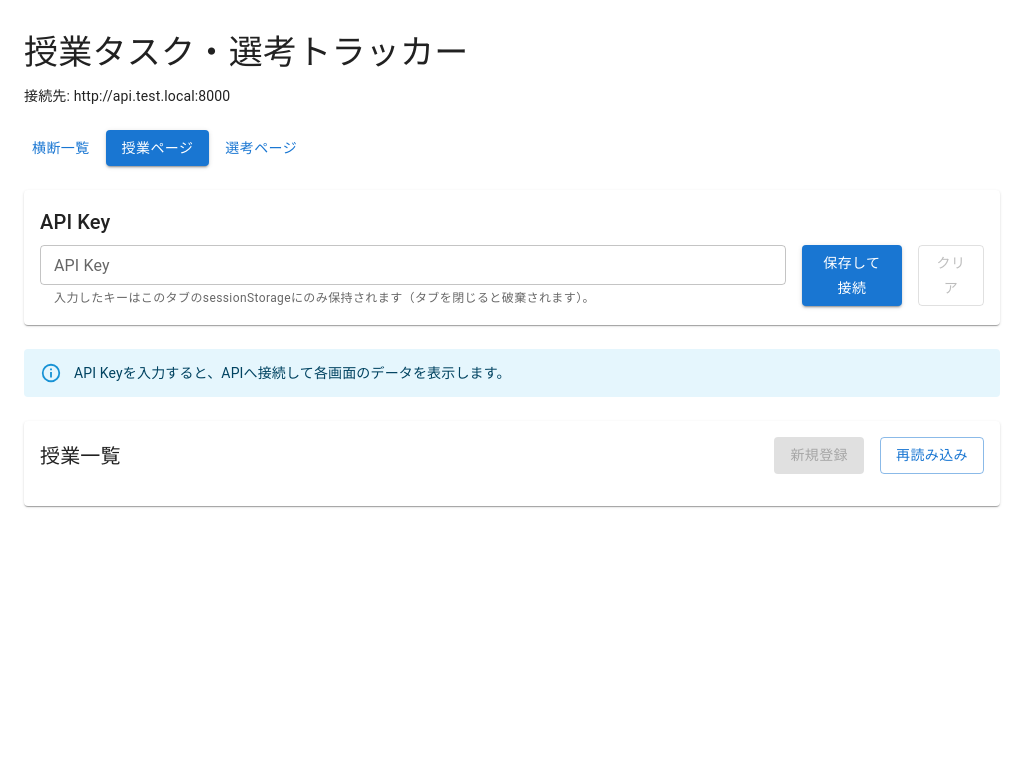
API Keyを入力しての疎通 › 入力したキーで認証付きリクエストし、取得内容を表示する
Expected: the element named "授業管理" is shown, [24,421,1000,506]
Type "valid-key" into the password field labelled "API Key" at (413, 265), box [40,245,786,285]
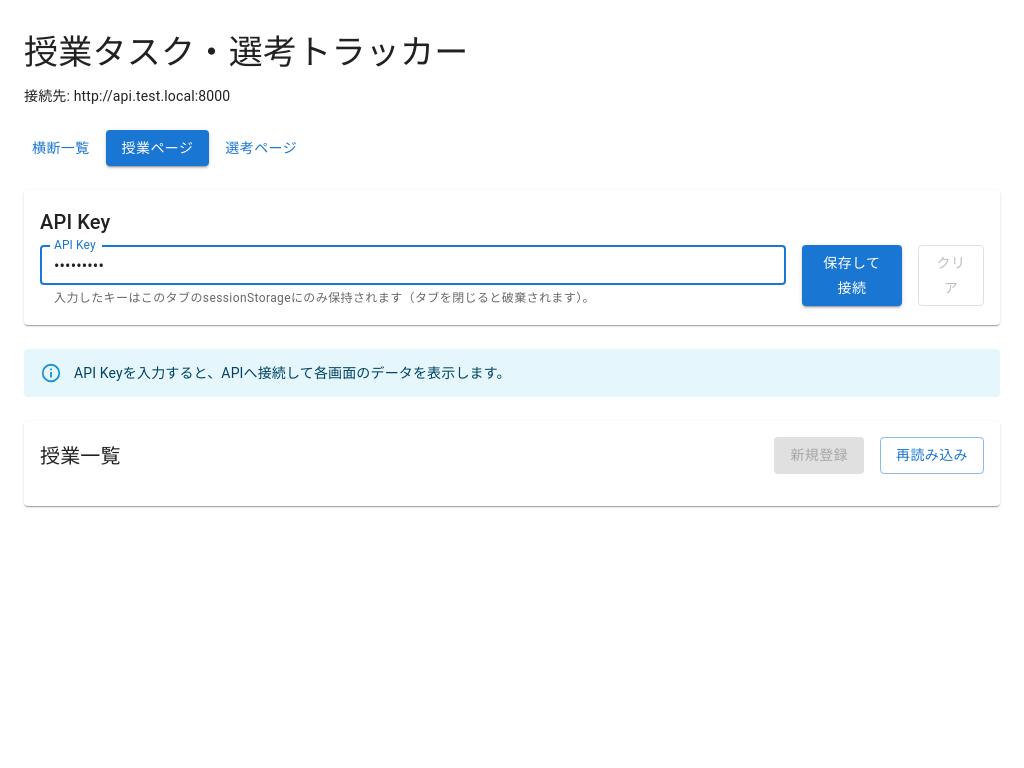
Click the button "保存して接続" at (852, 276), box [802,245,902,306]
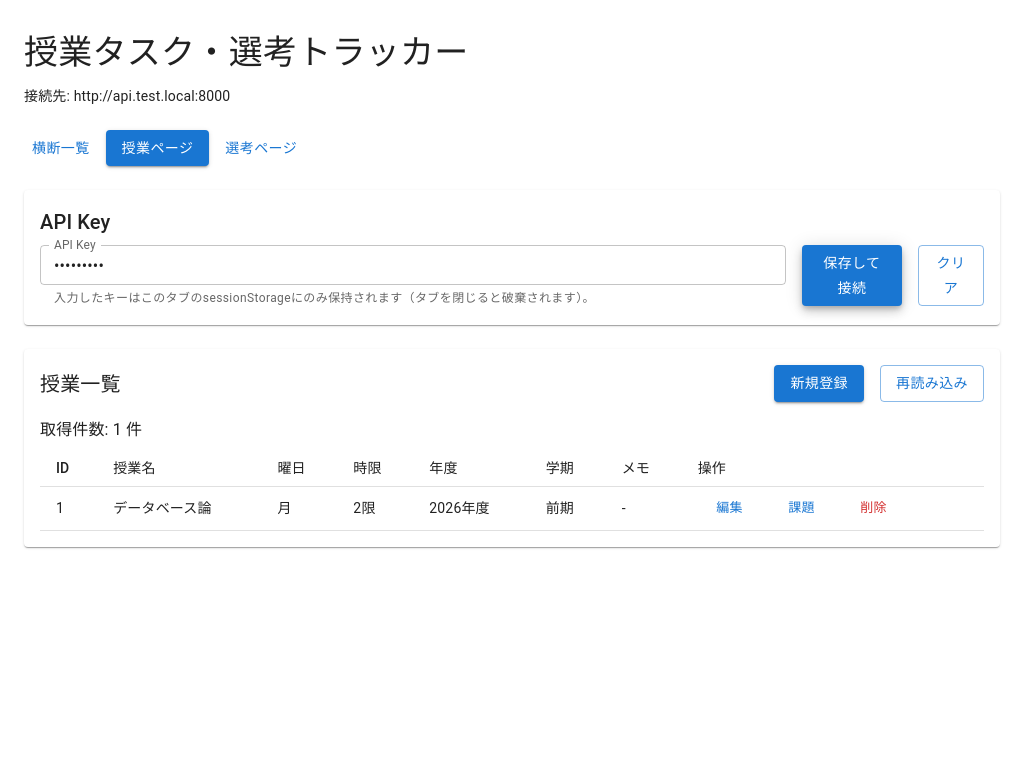
Result: the text "データベース論" is shown at [97,486,261,530]
Result: the text "取得件数: 1 件" is shown at [40,420,142,439]
